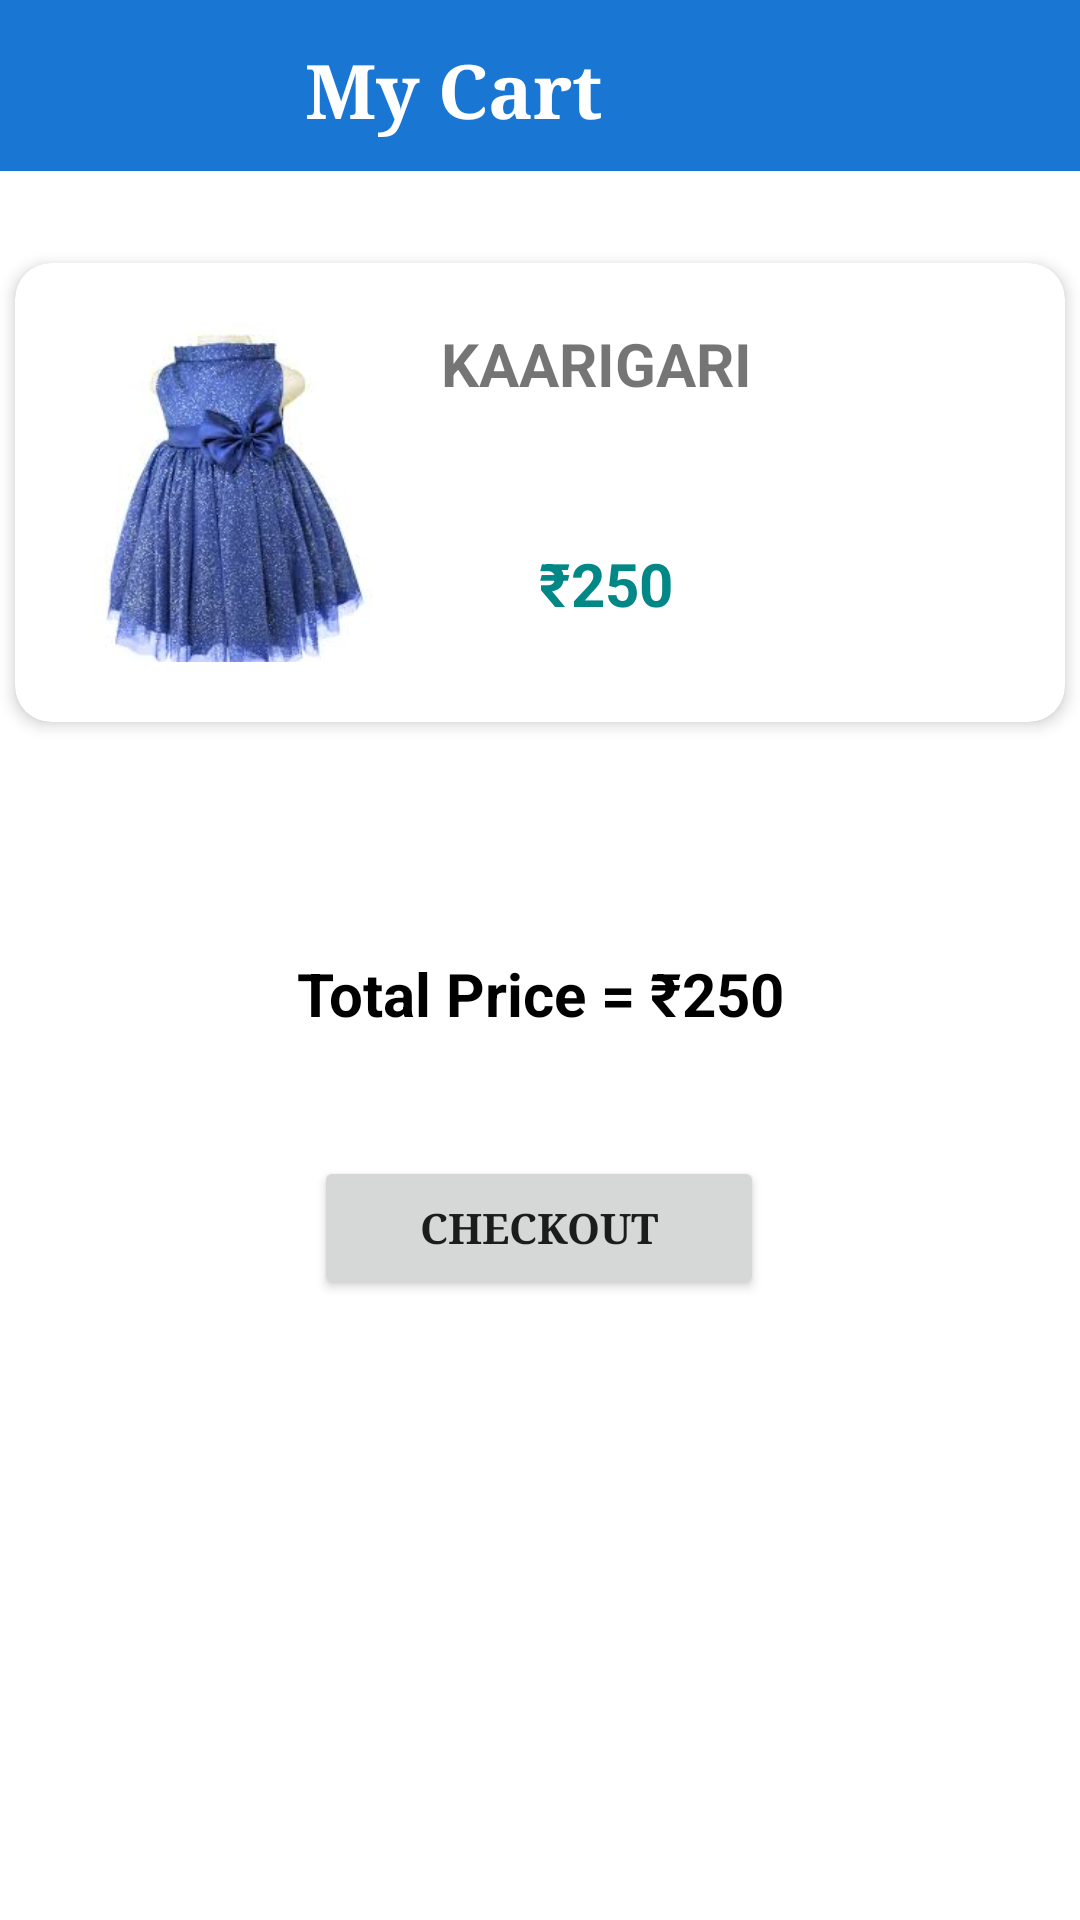

Screen size 1080px×1920px. Icon name, then its box in pixels as box(x1, y1, x2, y2):
kids dress: box(107, 335, 364, 662)
